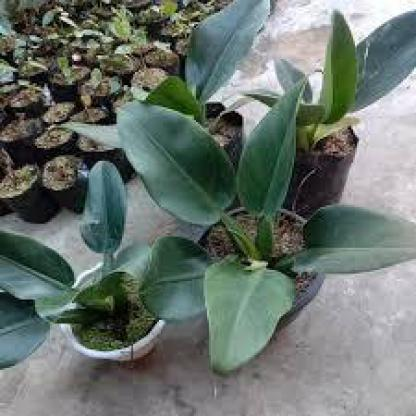Melati: (29, 53, 343, 374)
